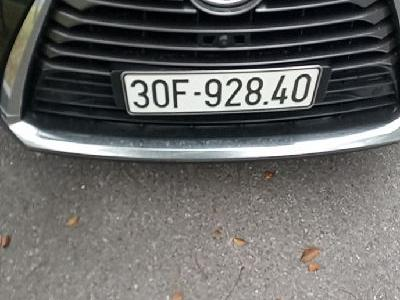lisence: (119, 66, 322, 116)
